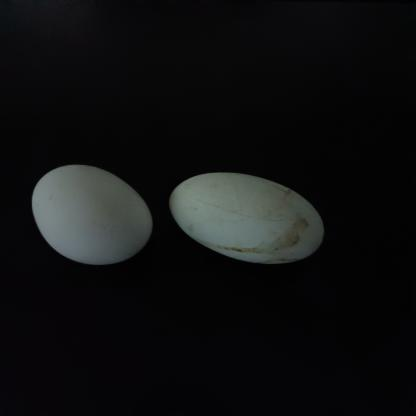egg: (176, 154, 342, 276), (32, 162, 165, 272)
